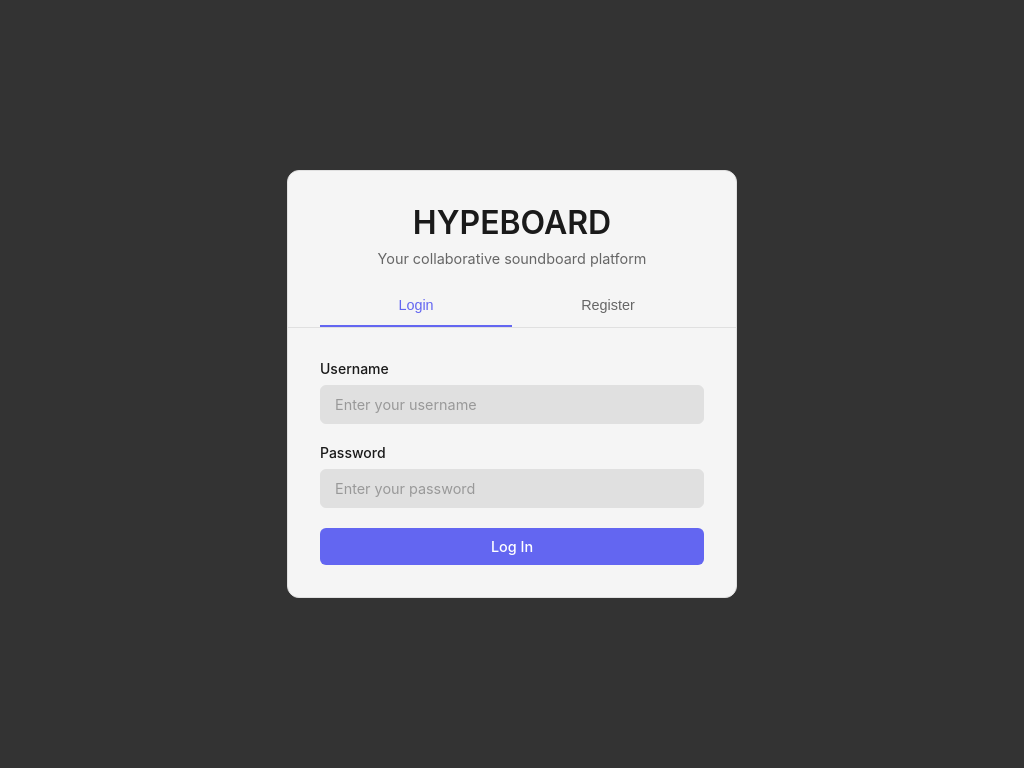
Test: LoginModal › should display error message on login failure
Step 1. Type "testuser" into the field with placeholder "Enter your username" → (512, 404), box [320,385,704,424]
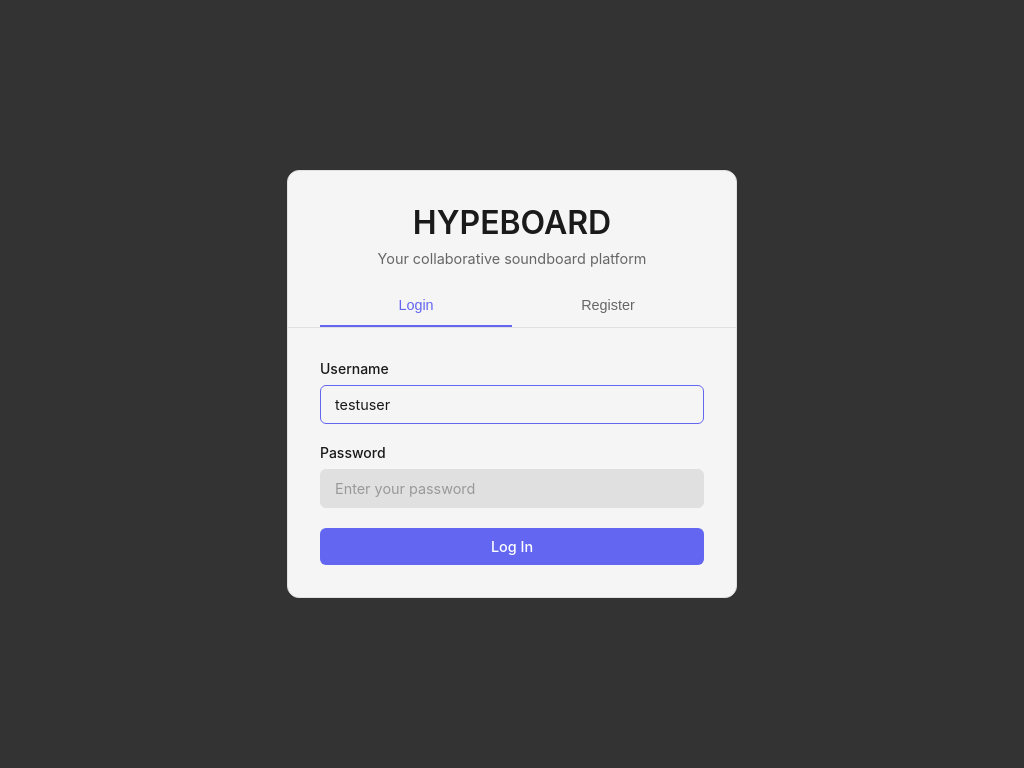
Step 2. Type "wrongpassword" into the password field with placeholder "Enter your password" → (512, 488), box [320,469,704,508]
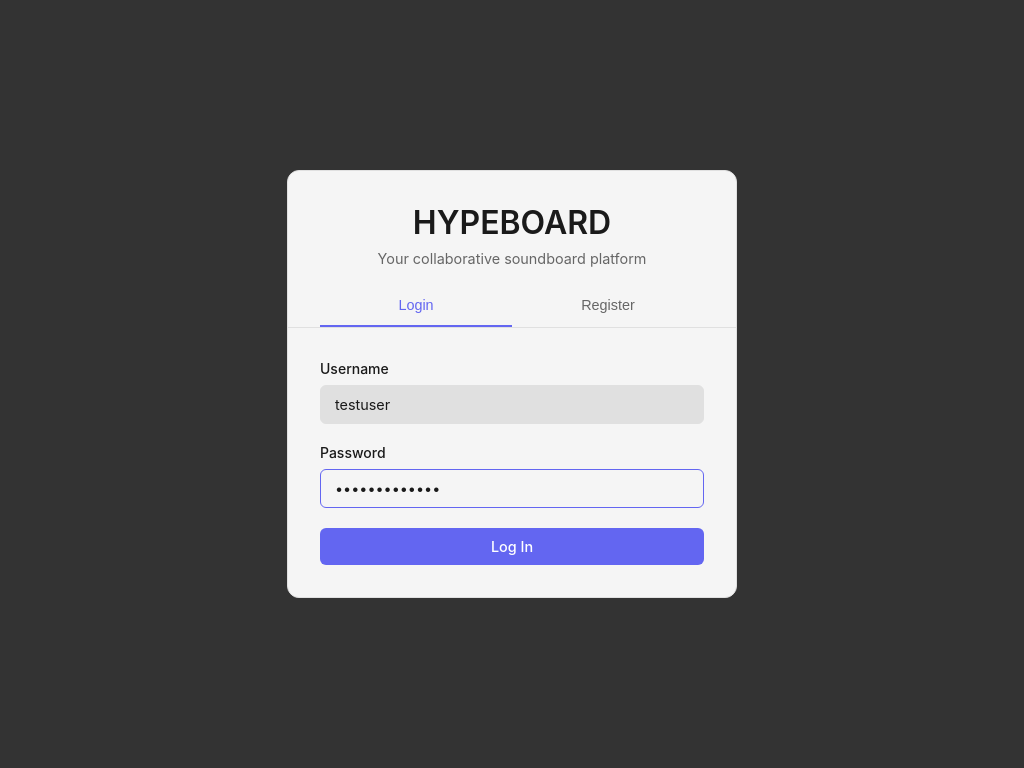
Step 3. Click the button "Log In" → (512, 546), box [320,528,704,565]
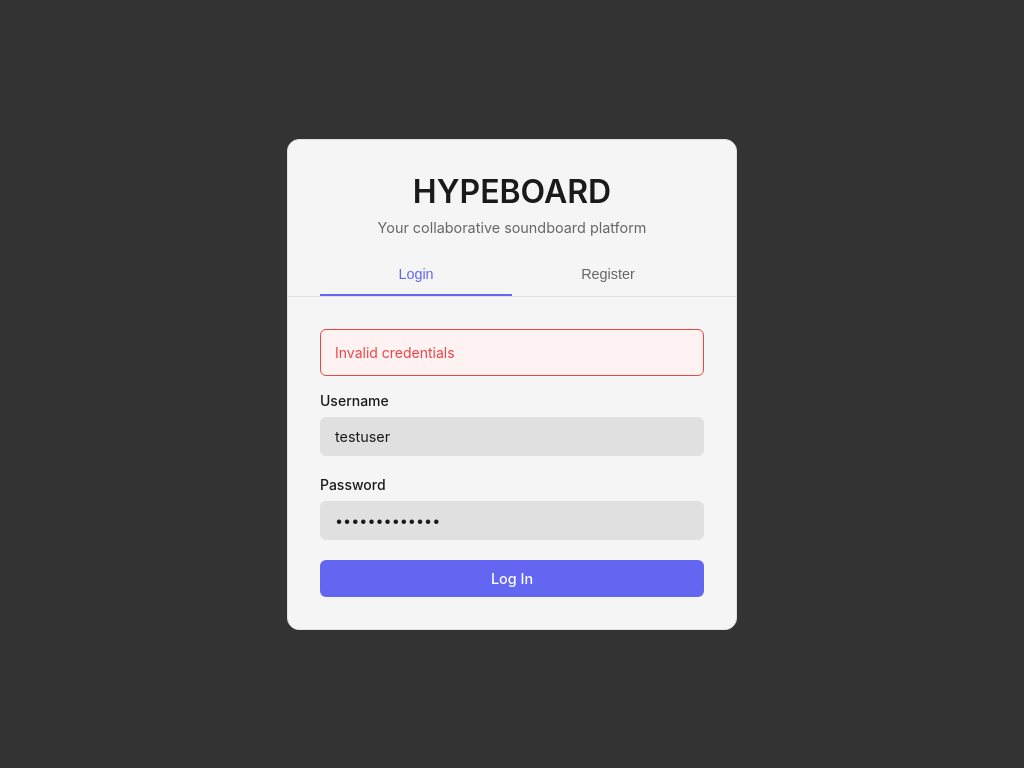
Result: the text "Invalid credentials" is shown at [320,328,704,376]
